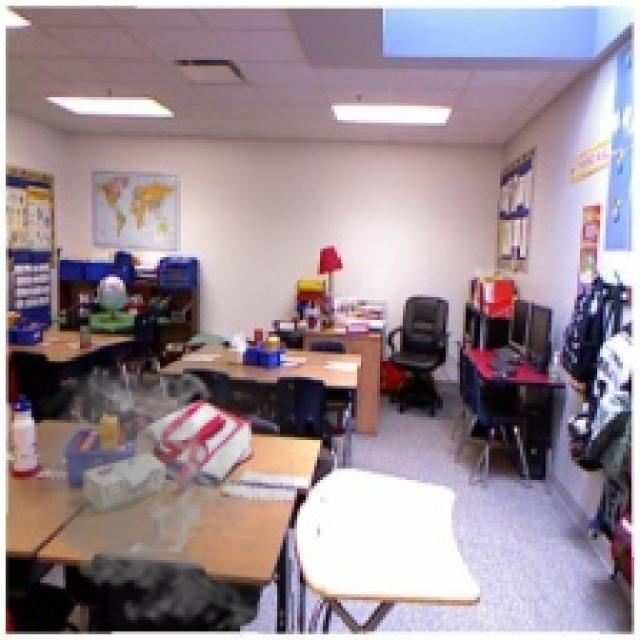Smoke: (14, 362, 297, 638)
